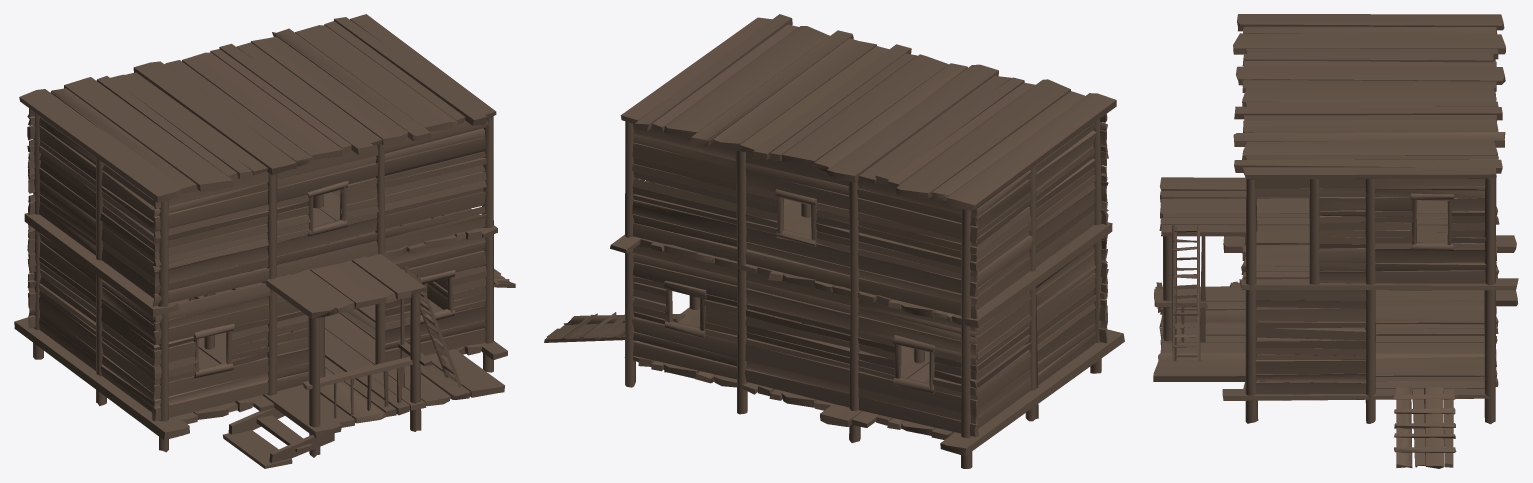
The model's file is House6.fbx.
The picture shows the model from 3 angles, left to right: view 1: azimuth 30°, elevation 25°; view 2: azimuth 150°, elevation 25°; view 3: azimuth 270°, elevation 25°; orthographic projection. The views are drawn at different scales.
Parts seen in each view (by area): view 1: Cylinder.006; view 2: Cylinder.006; view 3: Cylinder.006.
Part boxes in pixels (x1,y1,x2,y2): Cylinder.006: [14, 14, 515, 468]; Cylinder.006: [544, 14, 1124, 468]; Cylinder.006: [1153, 14, 1518, 468].
Bounding box in the file's own units: 1639 × 931 × 1223.
